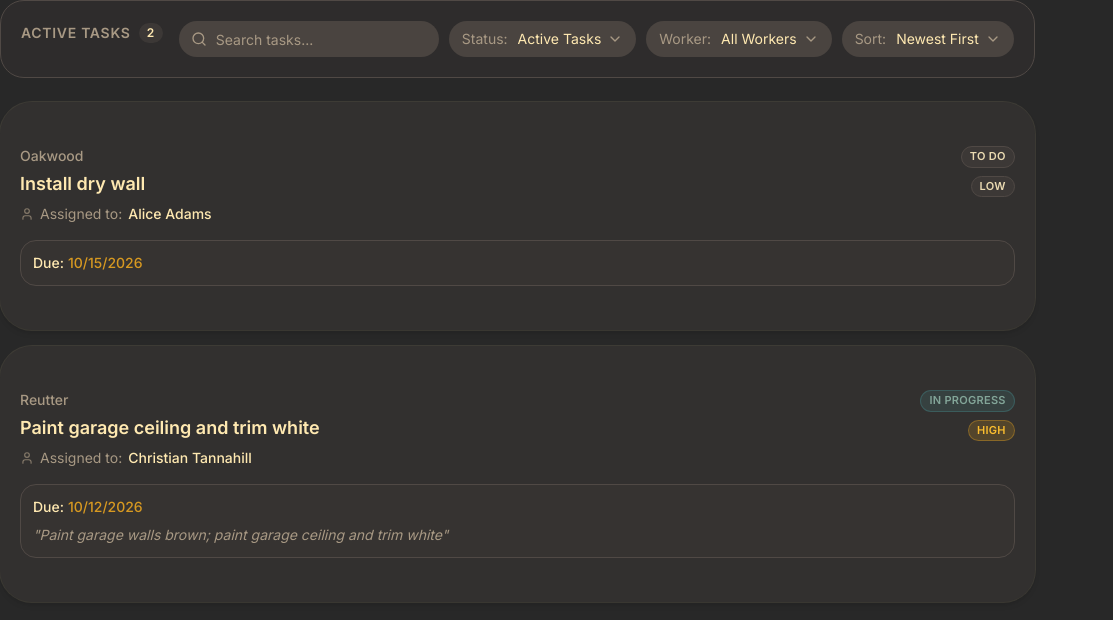
Test: ManageTaskList › shows completed tasks when status filter is set to "done"
Click the dropdown named "filter by status". click: (543, 39)
box: 449,21 -> 636,57
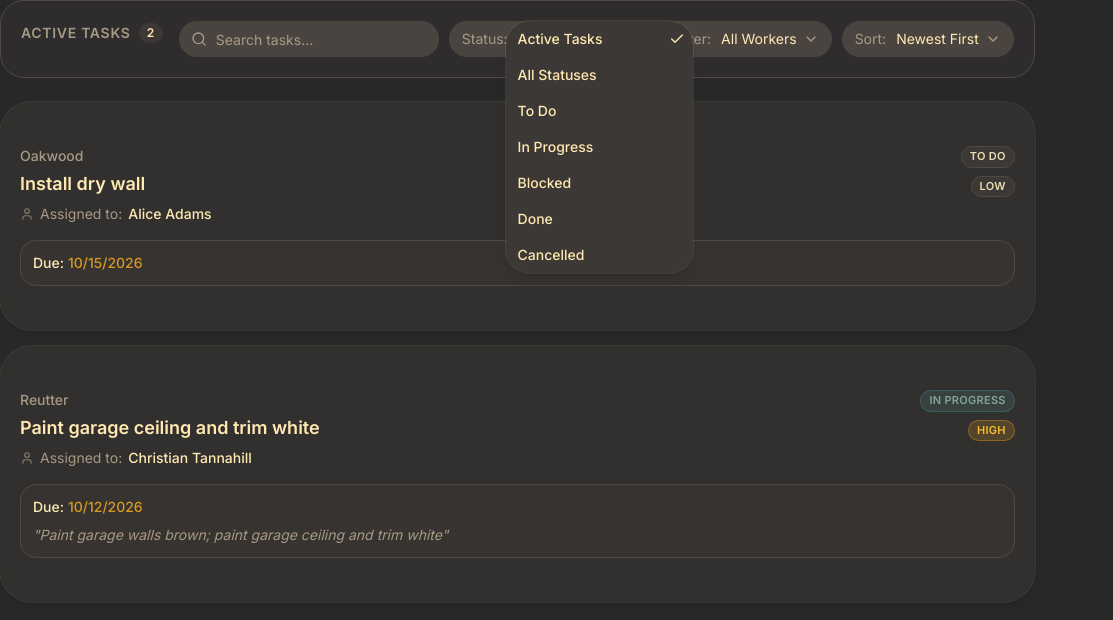
Click the option "Done". click: (535, 218)
box: 518,210 -> 553,227
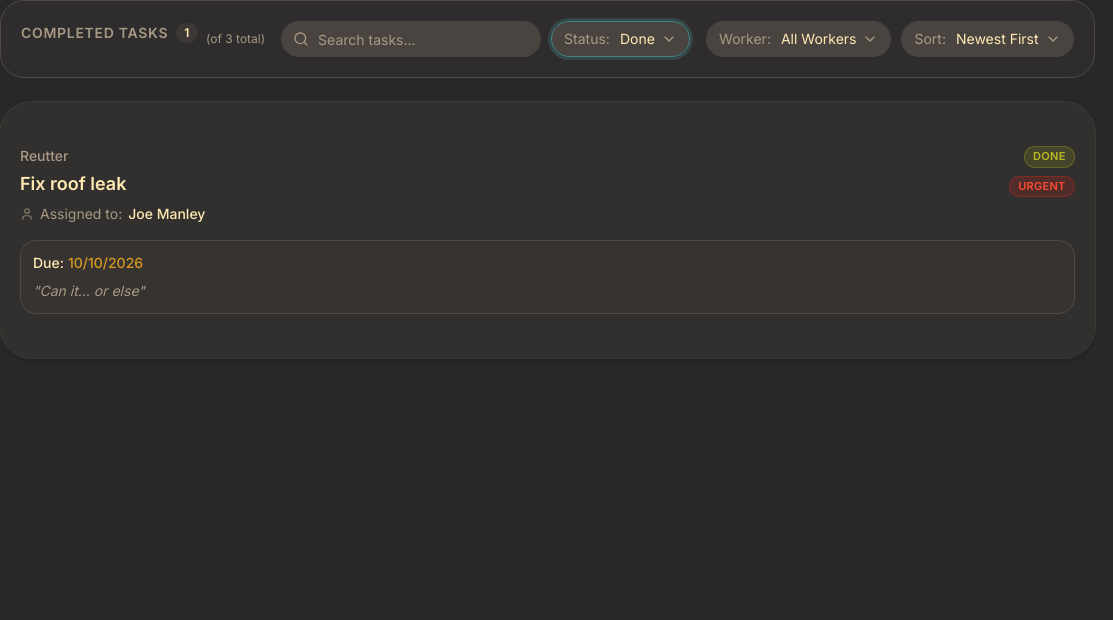
Expected: the heading "Fix roof leak" is shown, 20,173 -> 126,194
Expected: the heading "Paint garage ceiling and trim white" is gone
Expected: the heading "Completed Tasks 1" is shown, 21,23 -> 198,43
